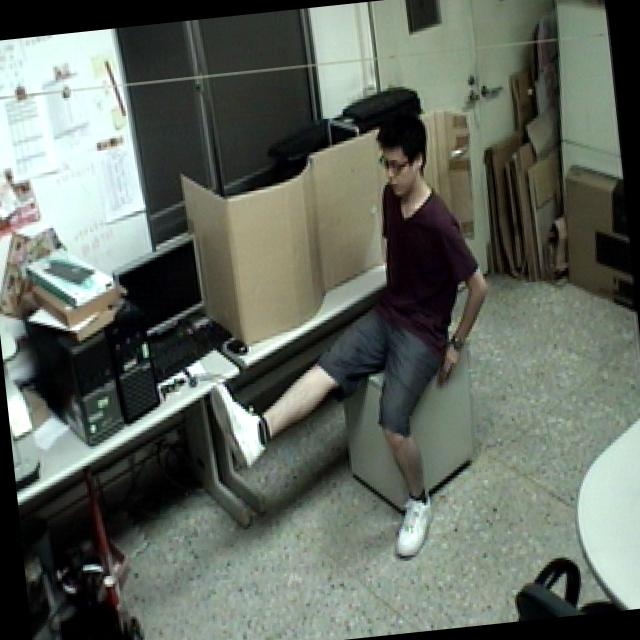sit: (162, 94, 517, 588)
